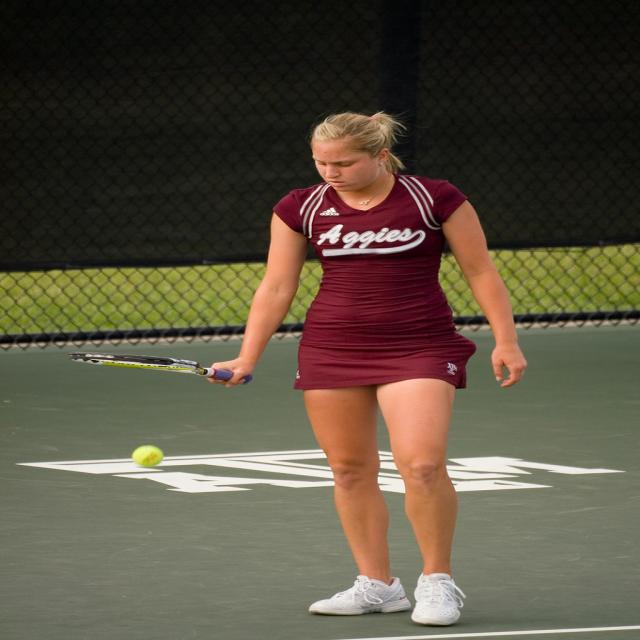Tennis ball: (132, 445, 160, 467)
